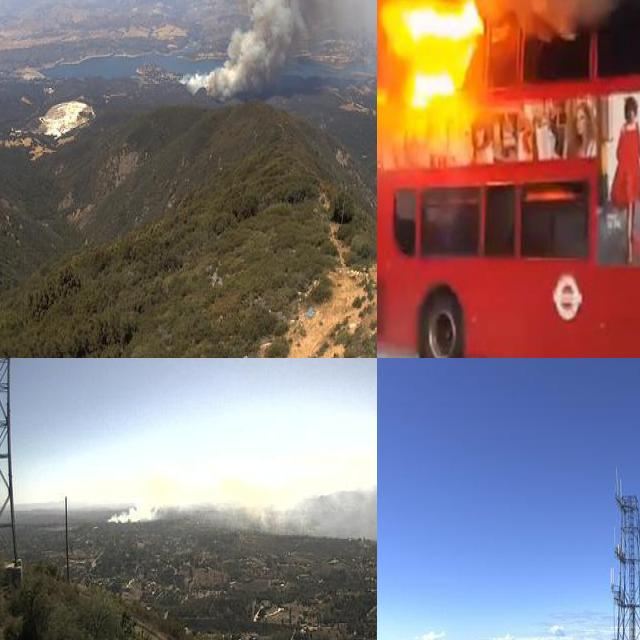fire: (377, 0, 564, 166)
smoke: (170, 0, 367, 99), (108, 480, 309, 534)
